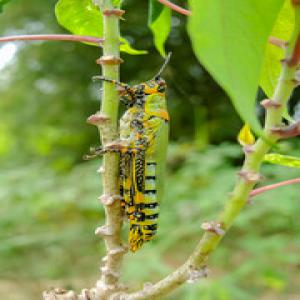locust: (113, 60, 183, 241)
